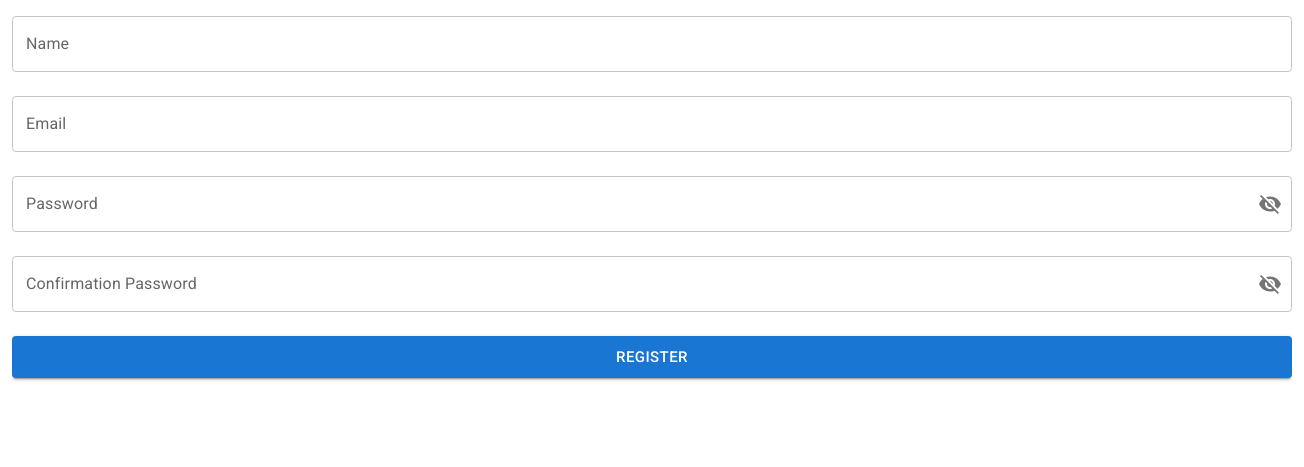
RegisterInput Component › should showing error msg when confirm password does not match password
This screenshot has width=1304, height=467.
Step 1. Type "password" into the password field with placeholder "Password" → coordinates (627, 204), box [12,176,1242,232]
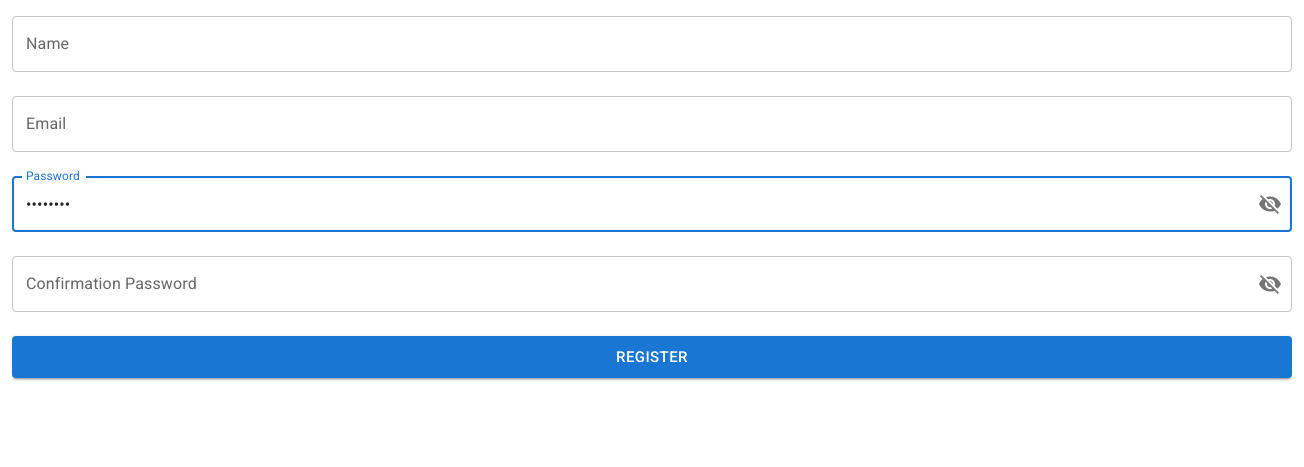
Step 2. Type "pass212" into the password field with placeholder "Confirmation Password" → coordinates (627, 284), box [12,256,1242,312]
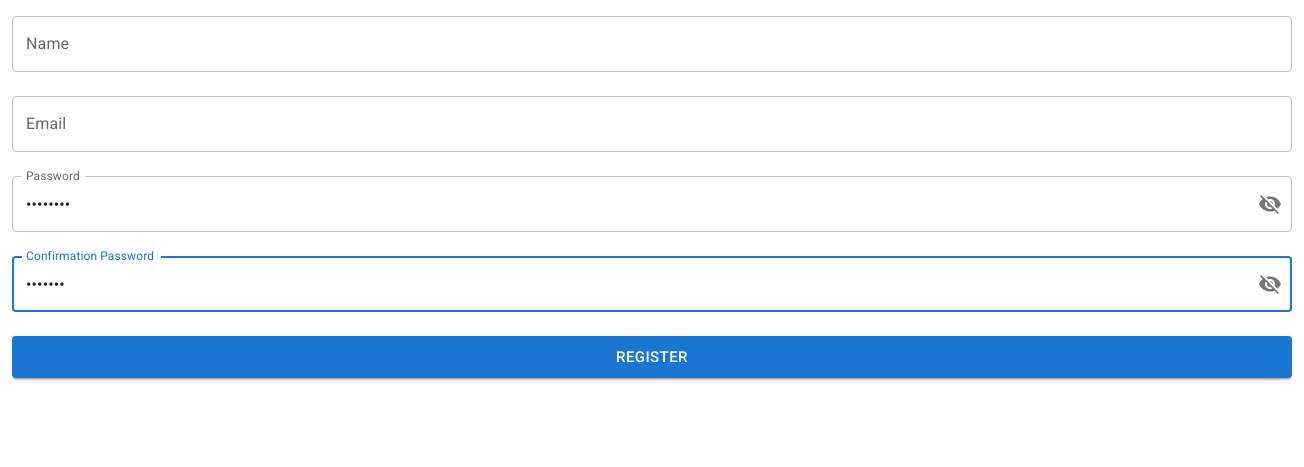
Step 3. Click the button "Register" → coordinates (652, 357), box [12,336,1292,378]
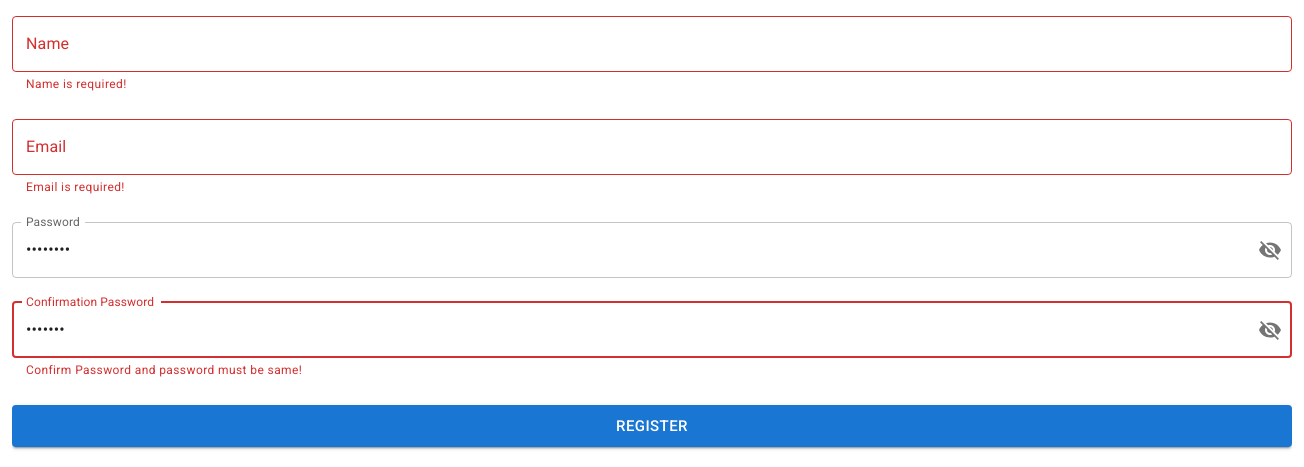
Now the text "Confirm Password and password must be same!" is shown, box [26,363,302,377]
